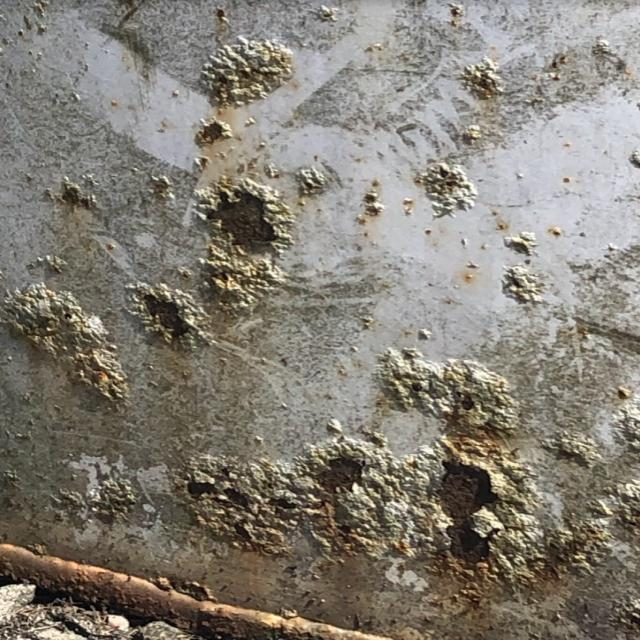Corrosion: (167, 332, 640, 640), (0, 529, 450, 640), (0, 286, 128, 410), (191, 172, 289, 325), (115, 279, 211, 353), (203, 42, 294, 110), (44, 483, 130, 528), (34, 169, 105, 210), (424, 159, 474, 215), (502, 263, 545, 310), (463, 60, 504, 99), (503, 231, 549, 259), (296, 162, 327, 198), (195, 117, 232, 145), (113, 0, 151, 21), (363, 179, 382, 215)
